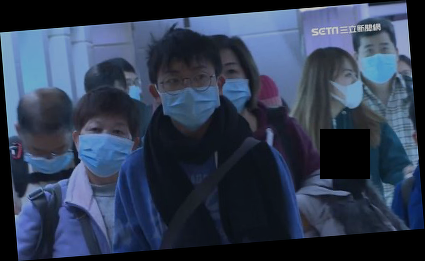with_mask: (156, 65, 219, 129), (77, 117, 136, 176), (356, 38, 398, 83), (22, 140, 75, 175), (220, 56, 251, 114), (331, 66, 365, 112)
